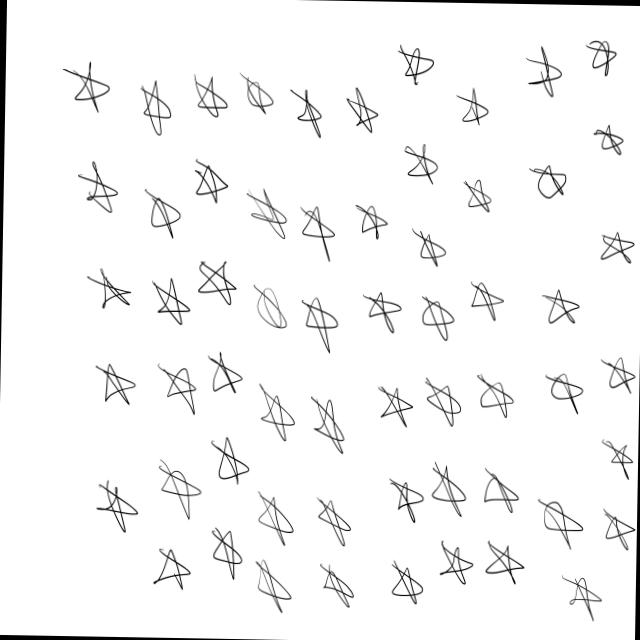Button: (58, 52, 109, 118), (242, 174, 286, 249), (84, 260, 134, 326), (92, 474, 147, 532), (252, 378, 301, 442), (90, 351, 142, 411), (155, 455, 206, 516), (298, 282, 340, 356), (248, 274, 296, 338), (312, 484, 356, 553), (284, 82, 326, 154), (246, 559, 300, 615), (75, 157, 122, 220), (475, 454, 524, 514), (150, 533, 199, 593), (354, 282, 402, 342), (295, 197, 340, 260), (206, 437, 254, 494), (146, 266, 190, 328), (534, 496, 584, 550), (154, 359, 198, 420), (524, 38, 564, 105), (139, 180, 182, 242), (250, 491, 295, 550), (551, 572, 608, 618), (312, 556, 362, 608), (473, 533, 528, 580), (595, 426, 638, 486), (200, 348, 243, 408), (446, 85, 496, 136), (368, 386, 418, 437), (524, 156, 573, 208), (410, 291, 458, 344), (586, 221, 640, 268), (384, 460, 424, 523), (390, 38, 436, 92), (579, 24, 620, 84), (193, 256, 238, 310), (233, 65, 275, 122), (584, 114, 630, 166), (422, 371, 467, 424), (380, 554, 424, 608), (345, 196, 388, 251), (536, 279, 584, 328), (468, 372, 516, 421), (310, 390, 349, 450), (190, 150, 228, 210), (455, 174, 506, 218), (400, 135, 440, 190), (338, 88, 382, 138), (204, 525, 243, 581), (542, 368, 586, 417), (430, 461, 469, 516), (432, 535, 473, 586), (188, 74, 230, 122), (591, 505, 637, 548), (462, 280, 511, 320), (410, 218, 444, 273), (592, 356, 636, 398), (142, 82, 174, 131)
